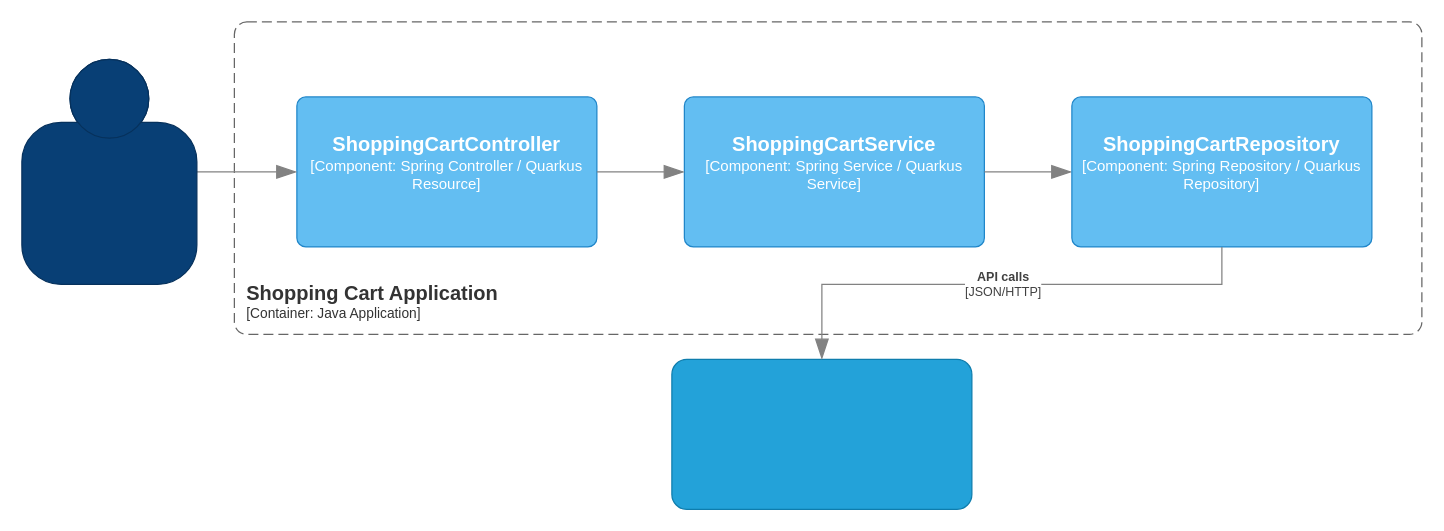
Some shapes in this 1444 by 531 pixel diagram are drawn without their labels. Each missing label, with the centre of its shape:
Client [Person]: point (109, 171)
DynamoDB Local [Container: DynamoDB]: point (821, 433)
